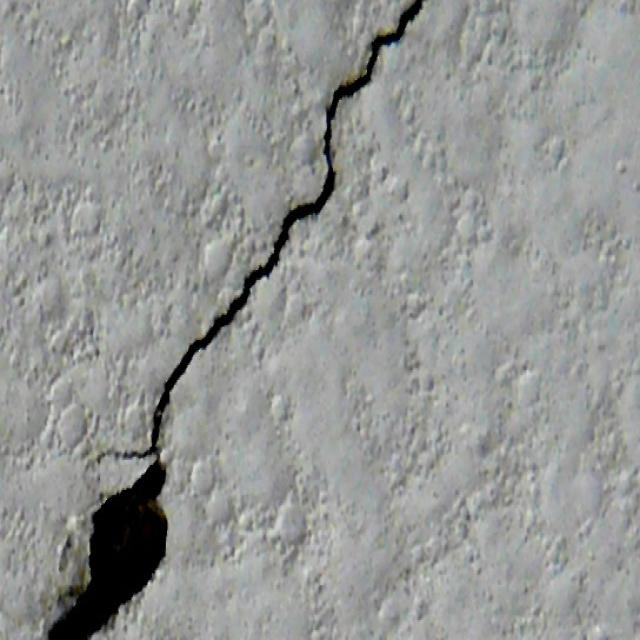crack: (42, 0, 424, 637)
